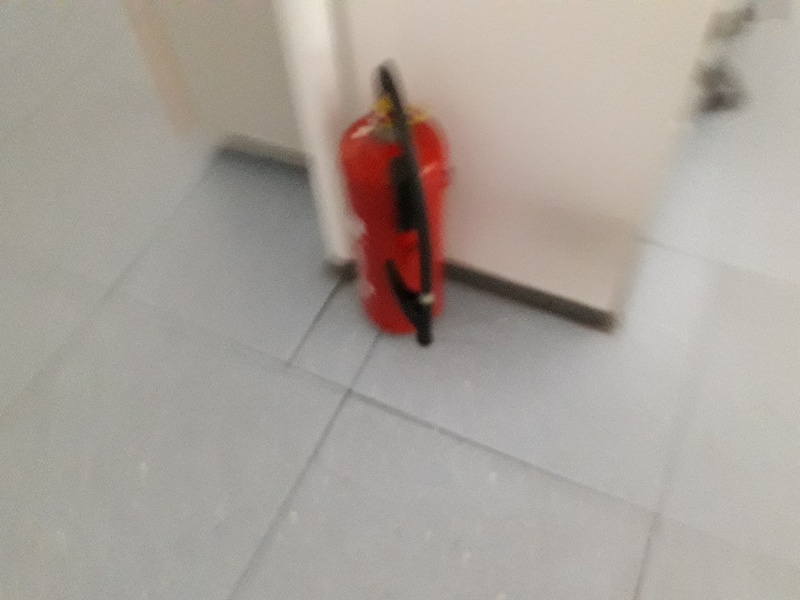vataparat: (340, 66, 447, 350)
